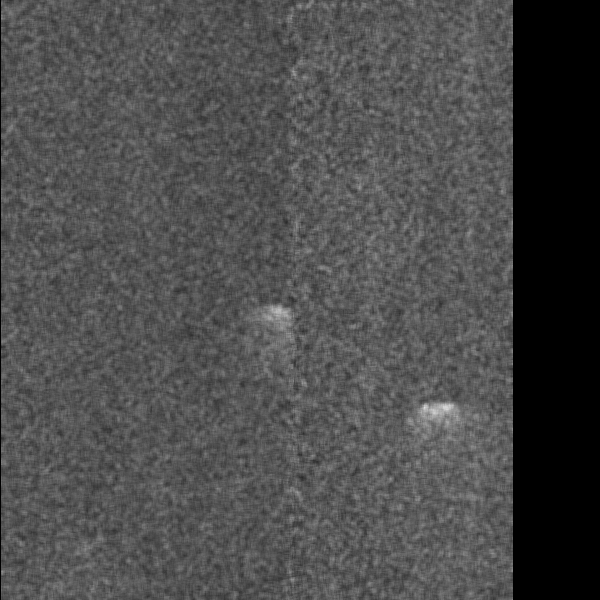spark: (362, 36, 405, 85), (370, 319, 414, 362), (291, 393, 318, 446), (154, 162, 177, 216), (25, 14, 41, 87), (71, 570, 90, 598)
